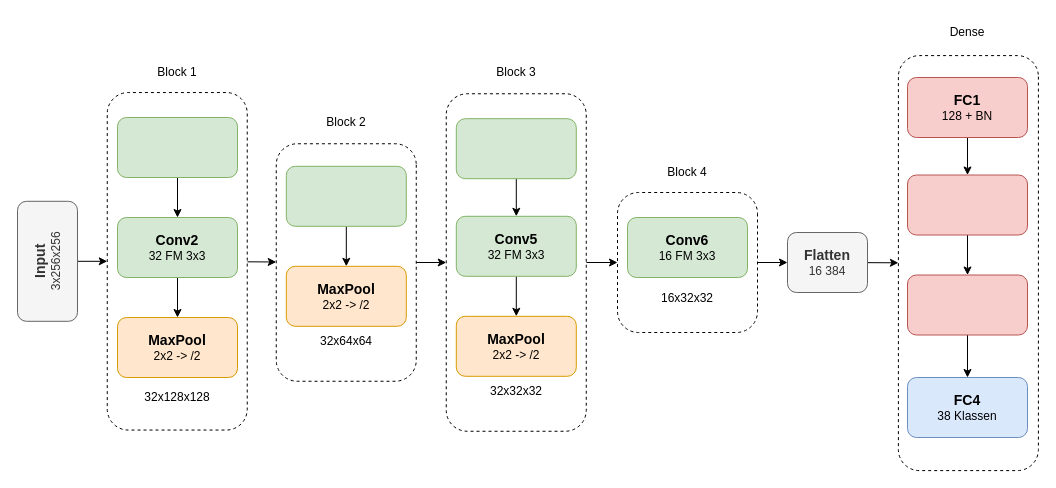
The diagram is 1056 pixels wide and 488 high, and some of its shapes have lost their labels. The shapes that lost their labels are listed below. From the top down, each one's centre as x and y in pixels, then its label:
At (177,147): "Conv1 32 FM 3x3".
At (515,148): "Conv4 32 FM 3x3".
At (345,195): "Conv3 32 FM 3x3".
At (967,204): "FC2 128 + BN".
At (967,304): "FC3 128 + BN".
